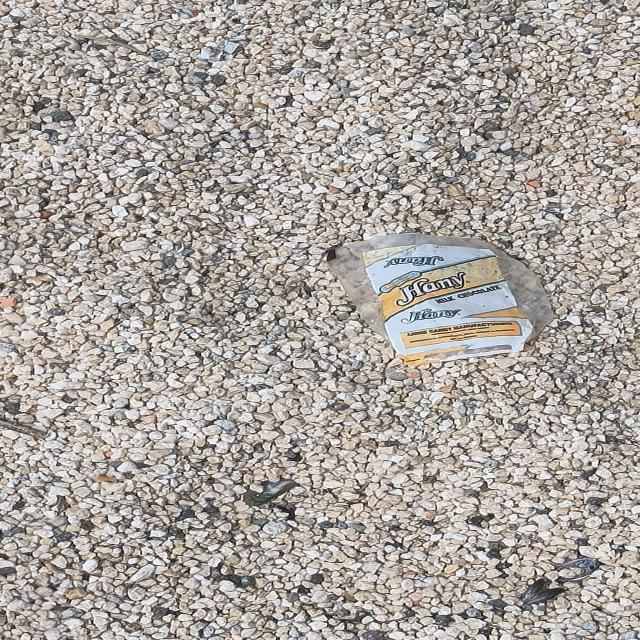plastic_waste: (326, 232, 557, 369)
